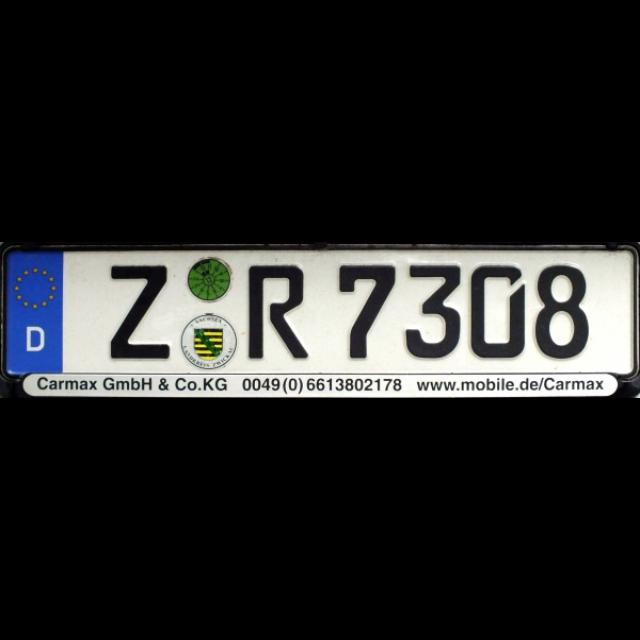d_license_plate: (5, 250, 631, 374)
